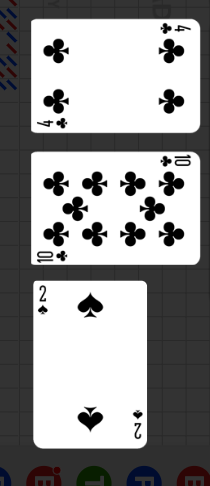10C: (35, 248, 70, 263)
2S: (130, 407, 144, 441)
4C: (158, 23, 192, 37)
